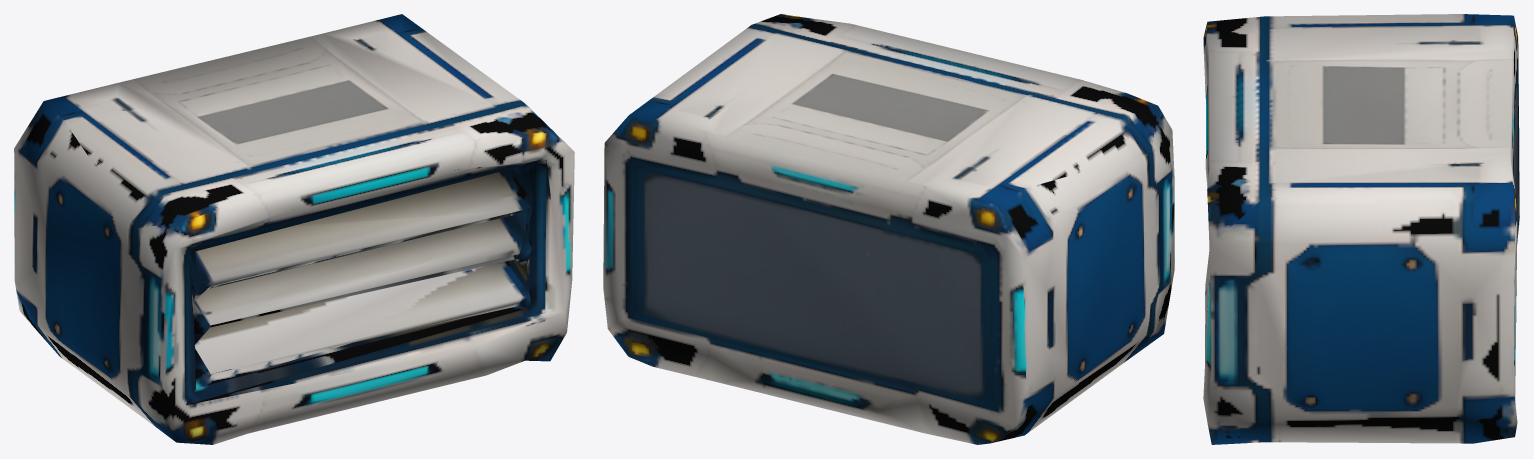
Rendered from cryo-ventilation-unit_LOD2.glb.
3 views of the same model, side by side, from view 1: azimuth 30°, elevation 25°; view 2: azimuth 150°, elevation 25°; view 3: azimuth 270°, elevation 25° (orthographic). The views are drawn at different scales.
Parts seen in each view (by area): view 1: cryo-ventilation-unit_LOD2; view 2: cryo-ventilation-unit_LOD2; view 3: cryo-ventilation-unit_LOD2.
Part boxes in pixels (bbox=[...]): cryo-ventilation-unit_LOD2: bbox=[14, 14, 574, 444]; cryo-ventilation-unit_LOD2: bbox=[603, 14, 1174, 444]; cryo-ventilation-unit_LOD2: bbox=[1203, 14, 1519, 444].
Size of the model in its own units: 1.25 by 0.694 by 0.7867.
Materials: 1 (1 with a texture image).
